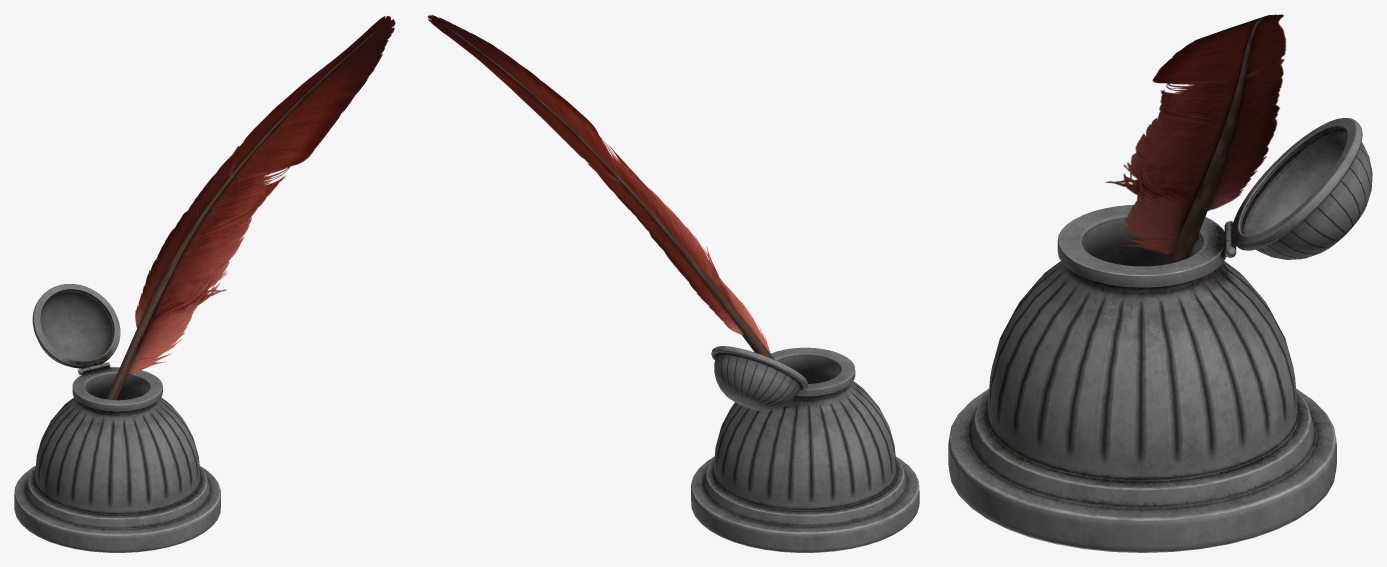
The model's file is Pen.glb.
3 views of the same model, side by side, from view 1: azimuth 30°, elevation 25°; view 2: azimuth 150°, elevation 25°; view 3: azimuth 270°, elevation 25° (orthographic). The views are drawn at different scales.
Parts seen in each view (by area): view 1: Inkwell_2, Feather, Inkwell_3; view 2: Inkwell_2, Feather, Inkwell_3; view 3: Inkwell_2, Feather, Inkwell_3.
Part boxes in pixels (x1,y1,x2,y2): Inkwell_2: (14, 367, 220, 552); Feather: (106, 16, 395, 400); Inkwell_3: (32, 284, 120, 368); Inkwell_2: (691, 347, 919, 552); Feather: (428, 14, 774, 359); Inkwell_3: (711, 346, 808, 411); Inkwell_2: (948, 204, 1336, 552); Feather: (1105, 14, 1286, 264); Inkwell_3: (1231, 118, 1372, 259).
Bounding box in the file's own units: 0.1571 × 0.1484 × 0.0771.
2 materials, 2 textured.
